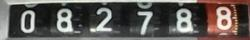digits: (89, 6, 113, 32), (175, 8, 193, 32), (56, 8, 74, 32), (136, 10, 153, 35), (216, 6, 232, 30), (20, 9, 36, 33)
